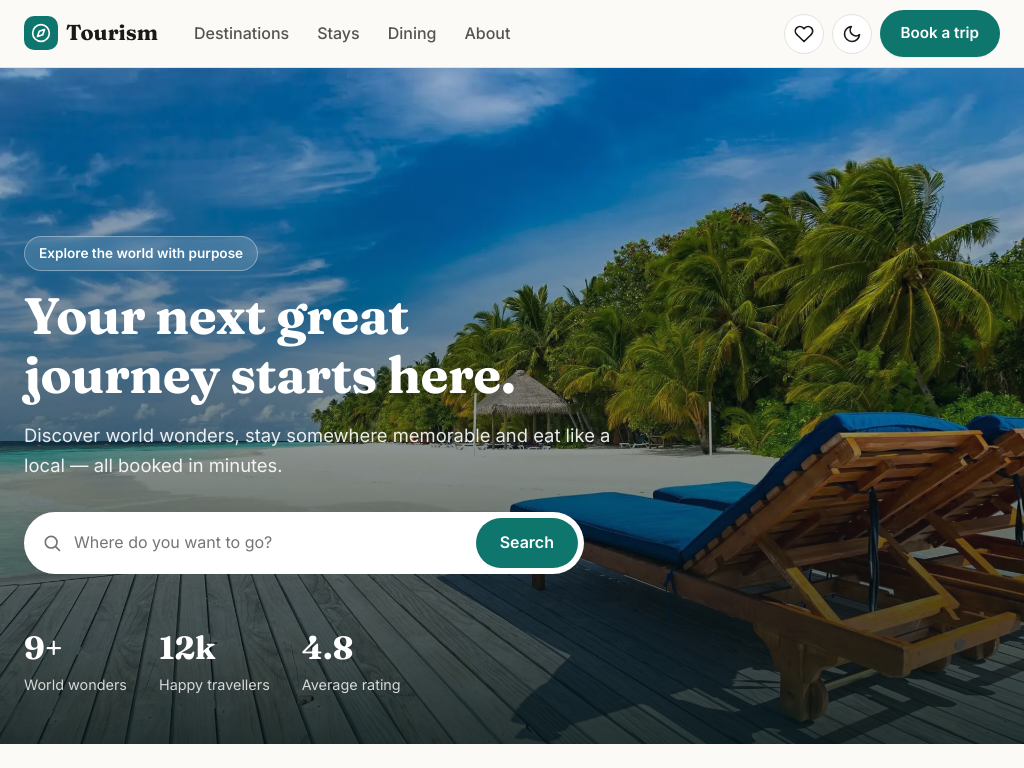
Test: app routes › searches from the hero into the destinations page
The image size is (1024, 768).
Type "peru" into the search field named "Search destinations".
click(269, 543); type("peru")  # box [62,518,476,568]
Then press Enter
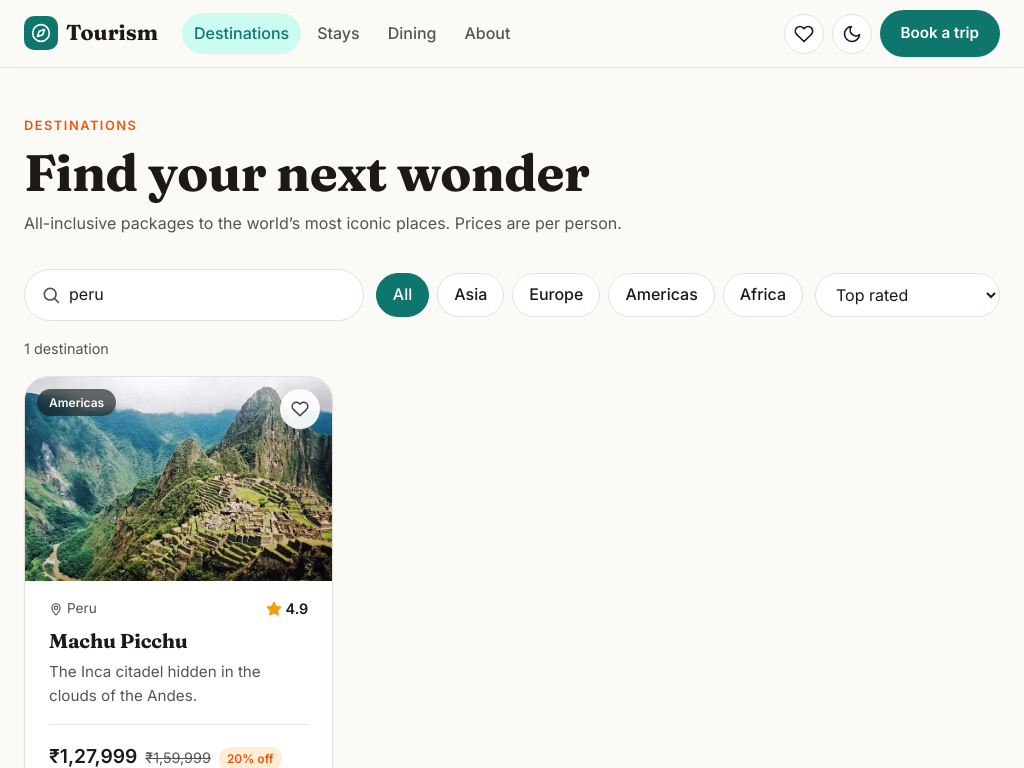
Expected: the link "Machu Picchu" is shown, [49,628,188,652]
Expected: the text "1 destination" is shown, [24,340,109,356]
